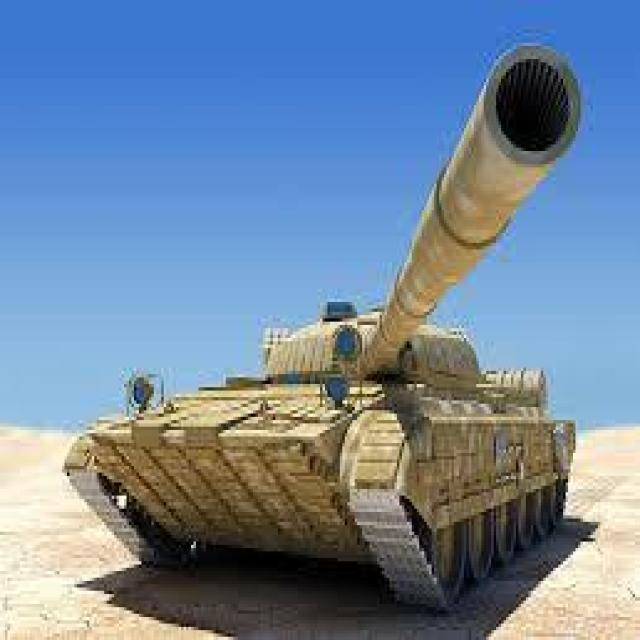Tanks: (66, 80, 576, 606)
